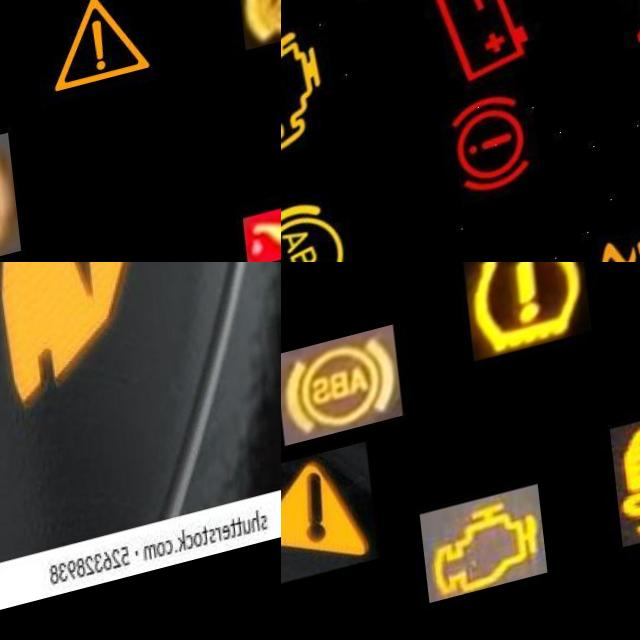Central Warning lamp: (30, 0, 159, 122), (281, 447, 367, 588)
